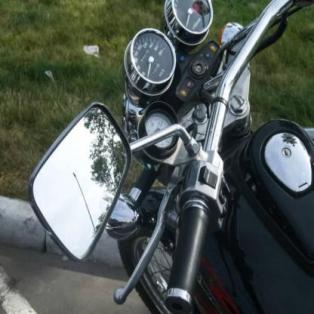Motocicleta: (24, 3, 314, 313)
